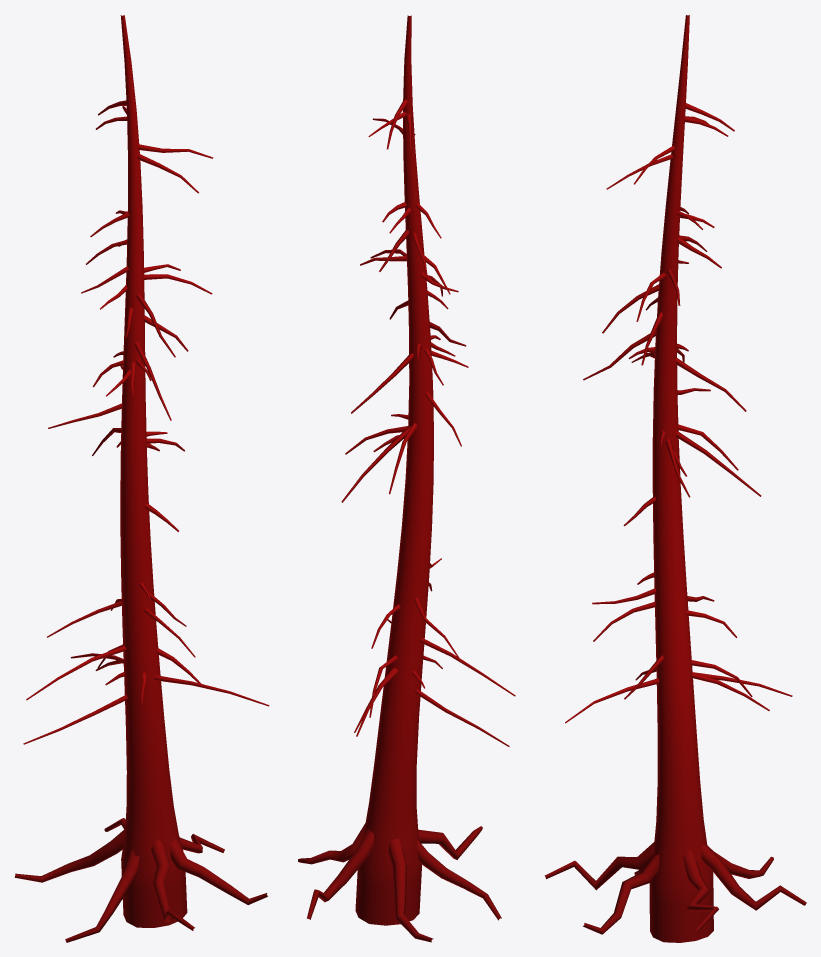
The model's file is snag.glb.
The picture shows the model from 3 angles, left to right: view 1: azimuth 30°, elevation 25°; view 2: azimuth 150°, elevation 25°; view 3: azimuth 270°, elevation 25°; orthographic projection.
Visible parts, largest first — view 1: LOD0; view 2: LOD0; view 3: LOD0.
Boxes of the visible parts, x1=… form: LOD0: x1=14, y1=15, x2=269, y2=942; LOD0: x1=298, y1=15, x2=515, y2=942; LOD0: x1=544, y1=15, x2=806, y2=942.
Size of what is drawn, in the model's own units: 2.31 by 9.62 by 2.53.
